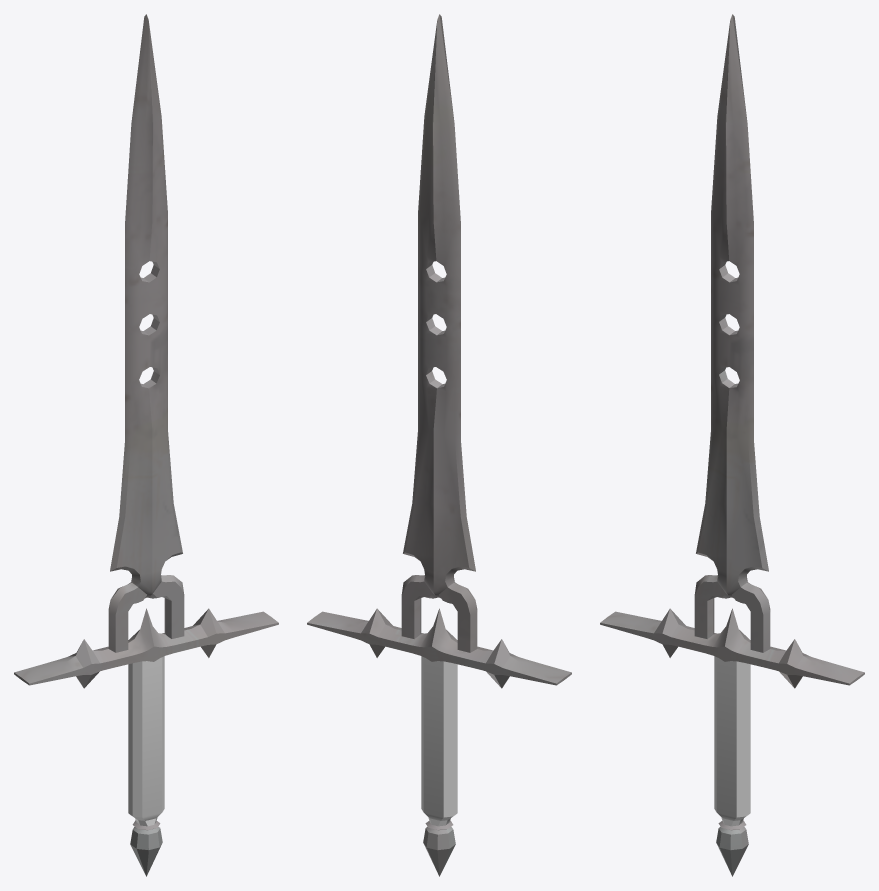
Rendered from SM_Blockout_Sword_3.fbx.
3 views of the same model, side by side, from view 1: azimuth 30°, elevation 25°; view 2: azimuth 150°, elevation 25°; view 3: azimuth 330°, elevation 25° (orthographic).
Parts seen in each view (by area): view 1: Sword_3; view 2: Sword_3; view 3: Sword_3.
Part boxes in pixels (x1,y1,x2,y2): Sword_3: (14,14,278,876); Sword_3: (307,14,571,876); Sword_3: (600,14,864,876).
Size of the model in its own units: 43.04 by 142 by 4.58.
